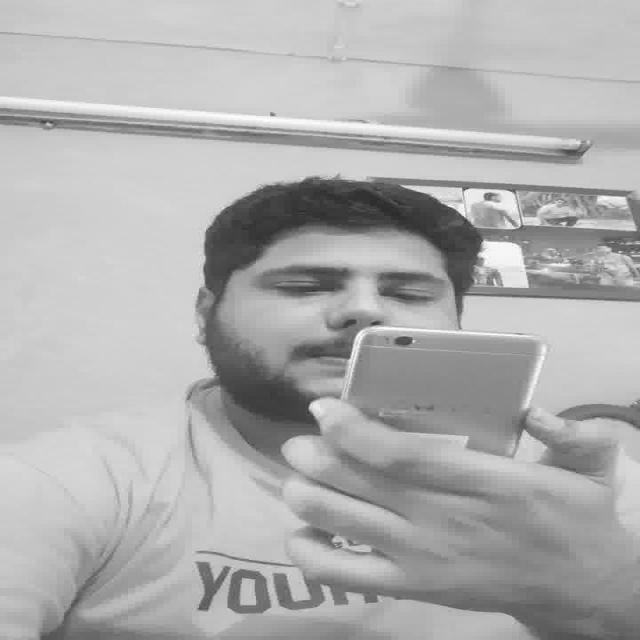fake: (336, 331, 548, 441)
real: (241, 254, 455, 312)
